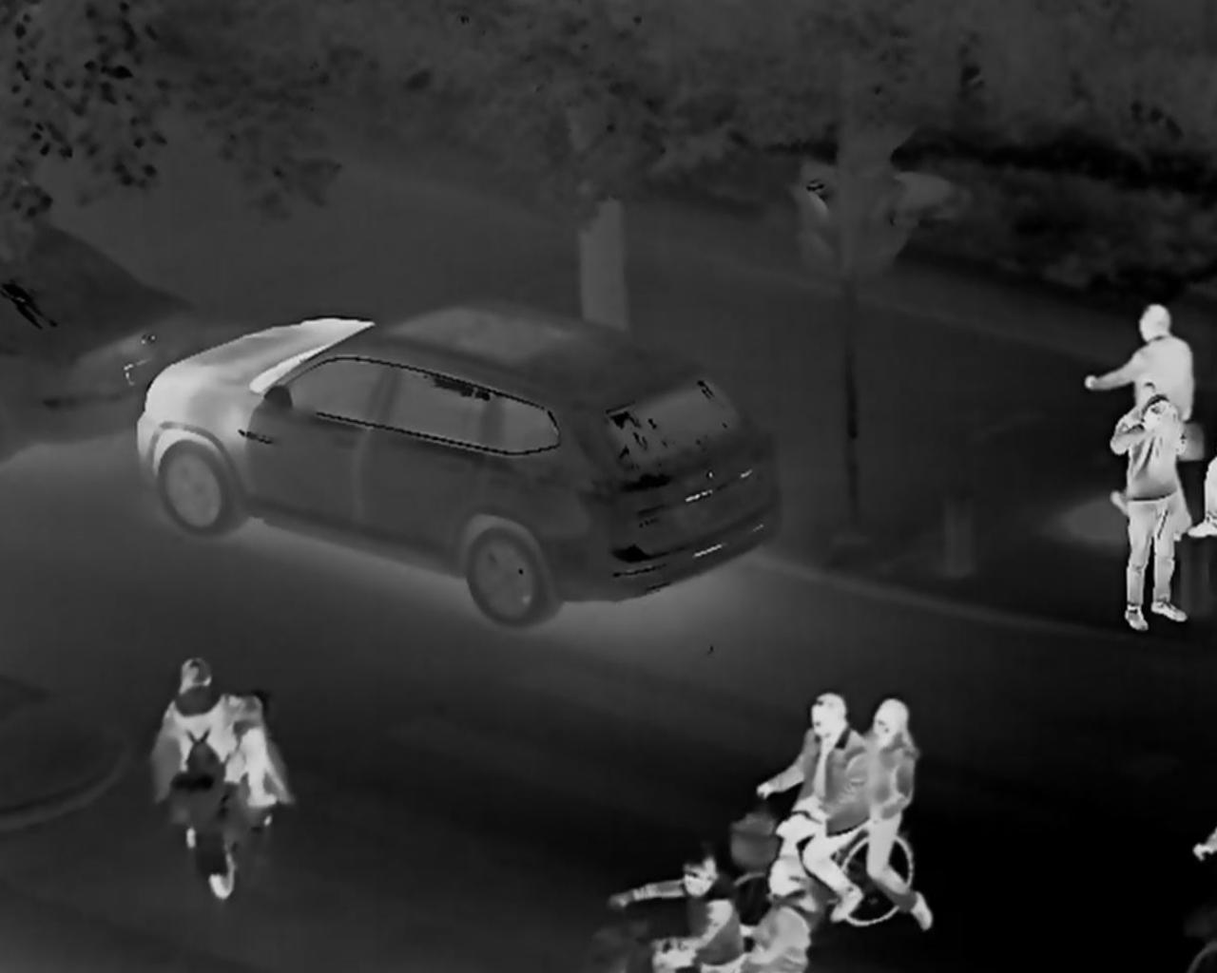person: (748, 684, 866, 925), (1078, 299, 1202, 515), (1107, 377, 1191, 636), (856, 697, 937, 932), (606, 845, 748, 973), (157, 655, 274, 808), (736, 855, 820, 973)
